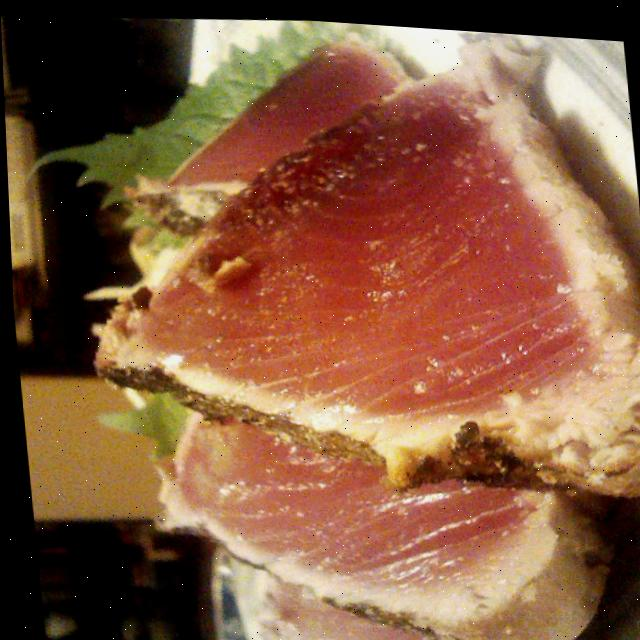熟制海鲜: (11, 1, 640, 640)
